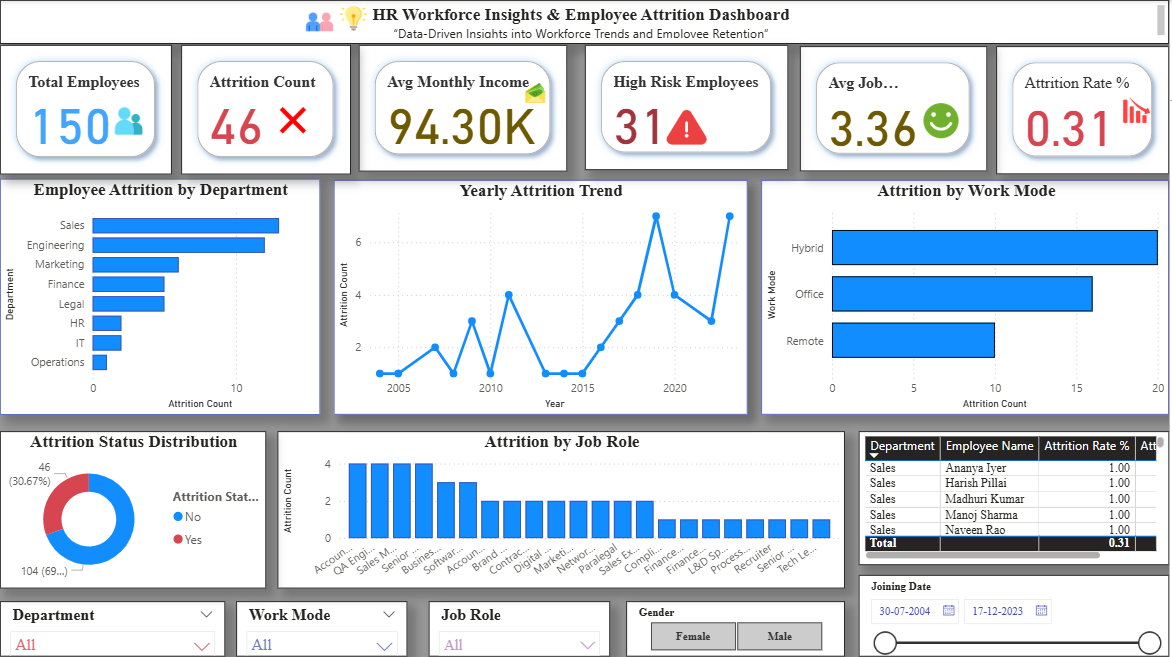

The dashboard page shown, as its layout file describes it:
{"tool":"powerbi","page":{"name":"DASHBOARD","canvas":[1280,720],"ordinal":0},"visuals":[{"type":"textbox","box":[0,0,1280.3,48],"z":0},{"type":"image","box":[212.7,0,349.9,41.2],"z":1000},{"type":"image","box":[174.3,0,352.7,48],"z":2000},{"type":"slicer","fields":{"Values":["HR Dataset.Department"]},"box":[0,657.9,246.2,61.6],"z":3000},{"type":"slicer","fields":{"Values":["HR Dataset.Gender"]},"box":[685.3,657.9,239.4,61.6],"z":4000},{"type":"slicer","fields":{"Values":["HR Dataset.Job Role"]},"box":[469.2,657.9,198.3,61.6],"z":5000},{"type":"slicer","fields":{"Values":["HR Dataset.Work Mode"]},"box":[258.5,657.9,187.4,61.6],"z":6000},{"type":"clusteredBarChart","title":"Employee Attrition by Department","fields":{"Category":["HR Dataset.Department"],"Y":["HR Dataset.Attrition Count"]},"box":[0,195.6,350.2,258.5],"z":7000},{"type":"clusteredColumnChart","title":"Attrition by Job Role","fields":{"Category":["HR Dataset.Job Role"],"Y":["HR Dataset.Attrition Count"]},"box":[303.7,471.9,621,172.3],"z":8000},{"type":"donutChart","title":"Attrition Status Distribution","fields":{"Category":["HR Dataset.Attrition Status"],"Y":["CountNonNull(HR Dataset.Employee ID)"]},"box":[0,471.9,291.3,172.3],"z":9000},{"type":"lineChart","title":"Yearly Attrition Trend","fields":{"Category":["HR Dataset.Joining Date.Variation.Date Hierarchy.Year"],"Y":["HR Dataset.Attrition Count"]},"box":[365.2,197,452.7,257.1],"z":10000},{"type":"barChart","title":"Attrition by Work Mode","fields":{"Category":["HR Dataset.Work Mode"],"Y":["HR Dataset.Attrition Count"]},"box":[833,197,447.3,257.1],"z":11000},{"type":"tableEx","fields":{"Values":["HR Dataset.Department","HR Dataset.Employee Name","HR Dataset.Attrition Rate %","HR Dataset.Attrition Count"]},"box":[939.7,471.9,340.6,146.4],"z":12000},{"type":"slicer","fields":{"Values":["HR Dataset.Joining Date"]},"box":[939.7,629.2,340.6,90.3],"z":13000},{"type":"cardVisual","fields":{"Data":["HR Dataset.Total Employees"]},"box":[0,48.6,188.4,141.3],"z":13001},{"type":"cardVisual","fields":{"Data":["HR Dataset.Avg Monthly Income"]},"box":[392.9,48.6,228.1,138.3],"z":13002},{"type":"cardVisual","fields":{"Data":["HR Dataset.Attrition Rate %"]},"box":[1090.5,50,189.8,139.8],"z":13003},{"type":"cardVisual","fields":{"Data":["HR Dataset.Attrition Count"]},"box":[198.7,48.6,185.4,141.3],"z":13004},{"type":"cardVisual","title":"Avg Satisfaction","fields":{"Data":["HR Dataset.Avg Job Satisfaction"]},"box":[875.6,50,204.6,136.9],"z":13005},{"type":"cardVisual","fields":{"Data":["HR Dataset.High Risk Employees"]},"box":[640.1,48.6,222.2,136.9],"z":13007},{"type":"image","box":[562.2,86.2,47.9,31.5],"z":13009},{"type":"image","box":[291.3,105.3,58.8,52],"z":13010},{"type":"image","box":[120.7,107.4,41.2,48.6],"z":13014},{"type":"image","box":[988.9,107.4,80.9,48.6],"z":13015},{"type":"image","box":[1208.2,92.7,72.1,54.4],"z":13016},{"type":"image","box":[722.6,108.9,58.9,60.3],"z":13017}]}

Visuals, with their boxes in screenshot pixels (x1, y1, x2, y2), scaled from the page's 1280x720 canvas onto the 1172x657 screenshot:
textbox: region(0, 0, 1171, 44)
image: region(195, 0, 515, 38)
image: region(160, 0, 483, 44)
slicer - HR Dataset.Department: region(0, 600, 225, 656)
slicer - HR Dataset.Gender: region(627, 600, 847, 656)
slicer - HR Dataset.Job Role: region(430, 600, 611, 656)
slicer - HR Dataset.Work Mode: region(237, 600, 408, 656)
"Employee Attrition by Department" clusteredBarChart: region(0, 178, 321, 414)
"Attrition by Job Role" clusteredColumnChart: region(278, 431, 847, 588)
"Attrition Status Distribution" donutChart: region(0, 431, 267, 588)
"Yearly Attrition Trend" lineChart: region(334, 180, 749, 414)
"Attrition by Work Mode" barChart: region(763, 180, 1171, 414)
tableEx - HR Dataset.Department x HR Dataset.Employee Name: region(860, 431, 1171, 564)
slicer - HR Dataset.Joining Date: region(860, 574, 1171, 656)
cardVisual - HR Dataset.Total Employees: region(0, 44, 173, 173)
cardVisual - HR Dataset.Avg Monthly Income: region(360, 44, 569, 171)
cardVisual - HR Dataset.Attrition Rate %: region(998, 46, 1171, 173)
cardVisual - HR Dataset.Attrition Count: region(182, 44, 352, 173)
"Avg Satisfaction" cardVisual: region(802, 46, 989, 171)
cardVisual - HR Dataset.High Risk Employees: region(586, 44, 790, 169)
image: region(515, 79, 559, 107)
image: region(267, 96, 321, 144)
image: region(111, 98, 148, 142)
image: region(905, 98, 980, 142)
image: region(1106, 85, 1171, 134)
image: region(662, 99, 716, 154)
